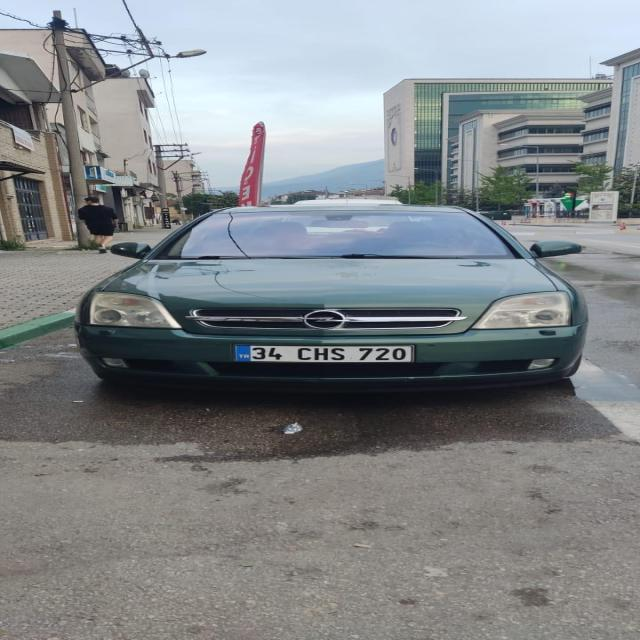opel: (292, 306, 359, 332)
